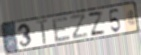3: (17, 22, 35, 48)
5: (108, 7, 122, 32)
E: (52, 15, 72, 43)
T: (35, 18, 49, 46)
Z: (68, 12, 89, 41), (87, 10, 107, 37)
